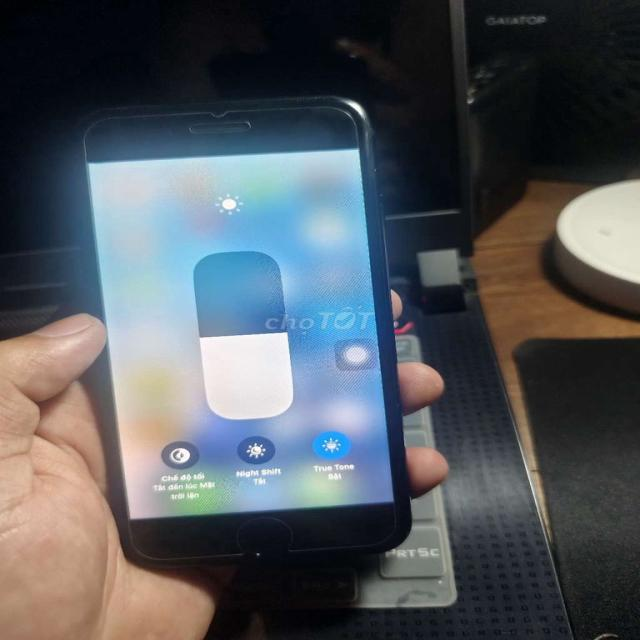scratch: (245, 547, 272, 559)
